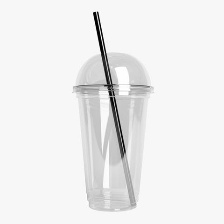drinking_straw: (88, 6, 139, 210)
glass: (65, 41, 161, 218)
